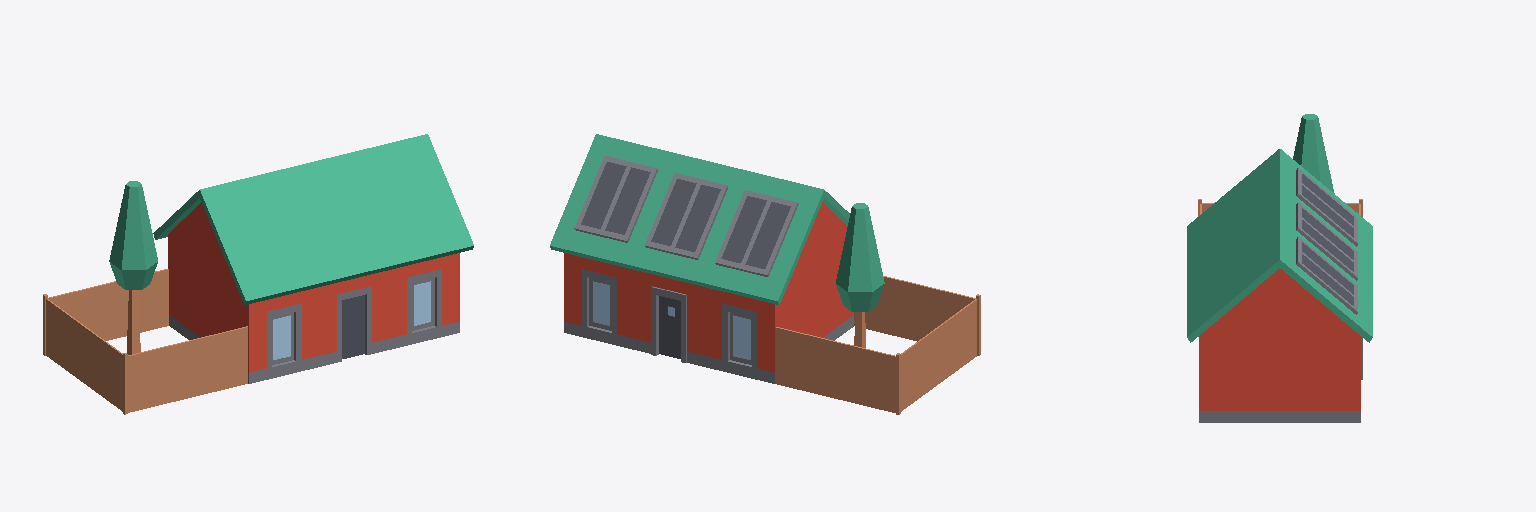
File: city_house_long_a.obj
3 views of the same model, side by side, from view 1: azimuth 30°, elevation 25°; view 2: azimuth 150°, elevation 25°; view 3: azimuth 270°, elevation 25° (orthographic).
Visible parts, largest first — view 1: mergedBlocks; view 2: mergedBlocks; view 3: mergedBlocks.
Boxes of the visible parts, x1=… form: mergedBlocks: x1=43, y1=134, x2=473, y2=414; mergedBlocks: x1=550, y1=134, x2=980, y2=414; mergedBlocks: x1=1187, y1=114, x2=1372, y2=422.
Bounding box in the file's own units: 1.59 × 0.767 × 0.742.